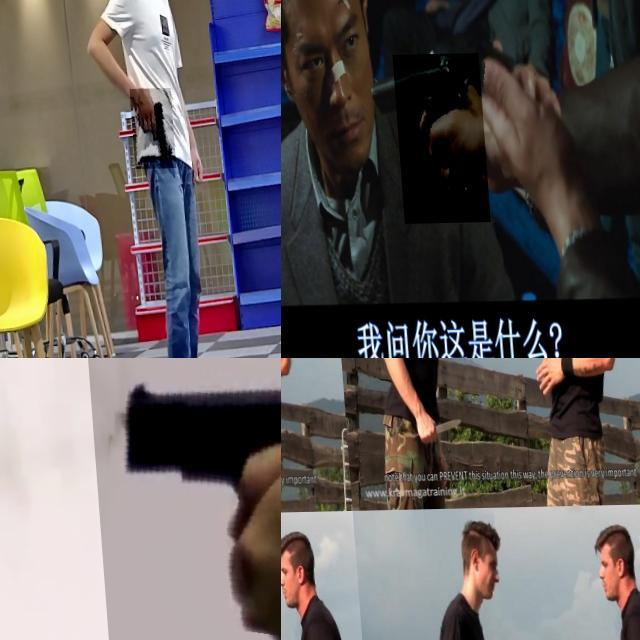-: (408, 416, 462, 448), (281, 404, 308, 444)
gun-knife-thesis - v11 Yolov5 augmented: (84, 358, 281, 640), (388, 54, 483, 226), (126, 90, 172, 171)
